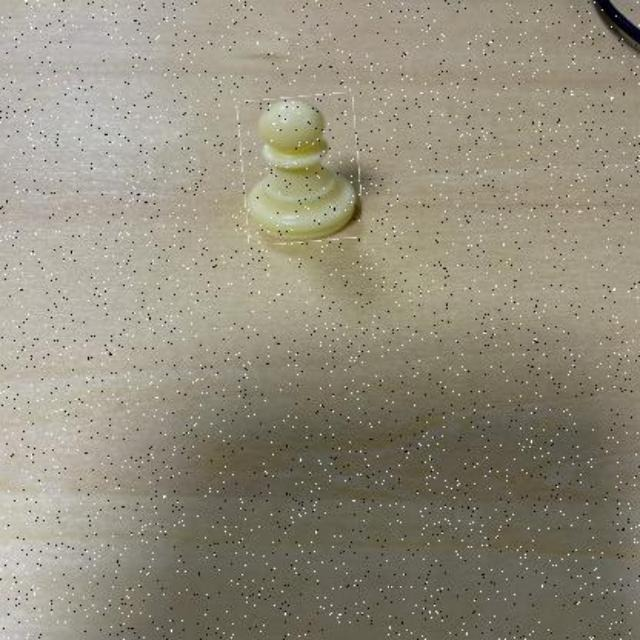white-pawn: (240, 94, 361, 243)
